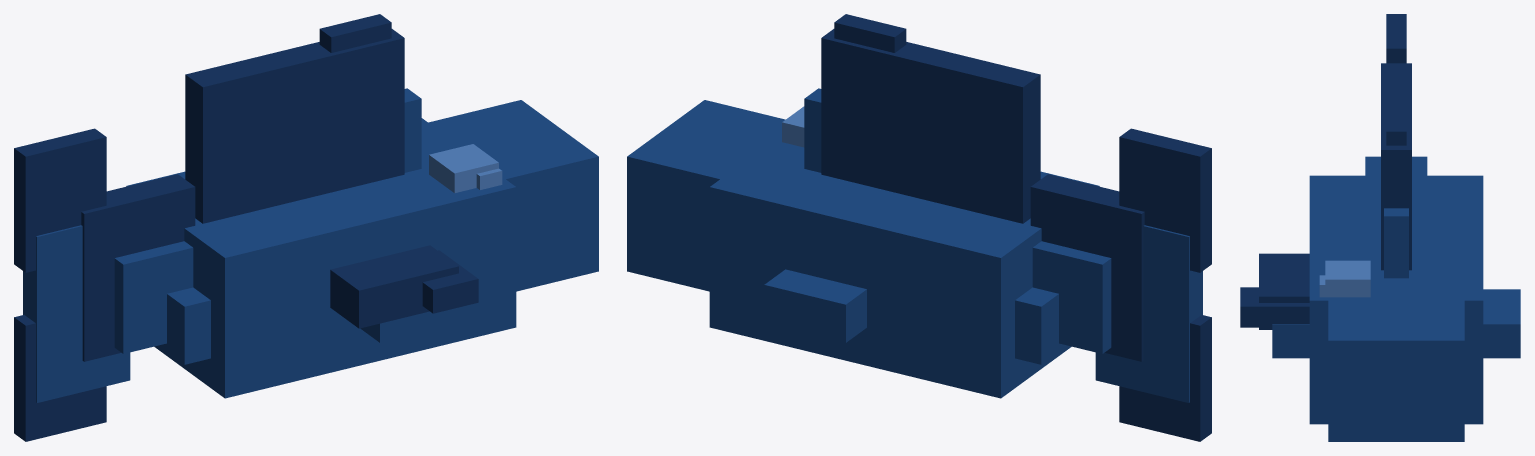
File: fish_cobalt_tuna.glb
The picture shows the model from 3 angles, left to right: view 1: azimuth 30°, elevation 25°; view 2: azimuth 150°, elevation 25°; view 3: azimuth 270°, elevation 25°; orthographic projection. The views are drawn at different scales.
Visible parts, largest first — view 1: FishArt_body, FishArt_dorsal, FishArt_tail, FishArt_pectoral, FishArt_eye; view 2: FishArt_body, FishArt_dorsal, FishArt_tail, FishArt_eye; view 3: FishArt_body, FishArt_dorsal, FishArt_pectoral, FishArt_eye, FishArt_tail.
Part boxes in pixels (bbox=[...]): FishArt_body: bbox=[23, 88, 598, 402]; FishArt_dorsal: bbox=[185, 14, 404, 223]; FishArt_tail: bbox=[14, 128, 195, 441]; FishArt_pectoral: bbox=[330, 245, 478, 328]; FishArt_eye: bbox=[429, 144, 502, 193]; FishArt_body: bbox=[627, 88, 1202, 402]; FishArt_dorsal: bbox=[821, 14, 1040, 223]; FishArt_tail: bbox=[1030, 128, 1211, 441]; FishArt_eye: bbox=[782, 106, 804, 147]; FishArt_body: bbox=[1272, 156, 1520, 441]; FishArt_dorsal: bbox=[1381, 63, 1411, 270]; FishArt_pectoral: bbox=[1240, 253, 1309, 329]; FishArt_eye: bbox=[1319, 260, 1370, 297]; FishArt_tail: bbox=[1386, 14, 1406, 63].
Bounding box in the file's own units: 0.321 × 0.1875 × 0.1637.
